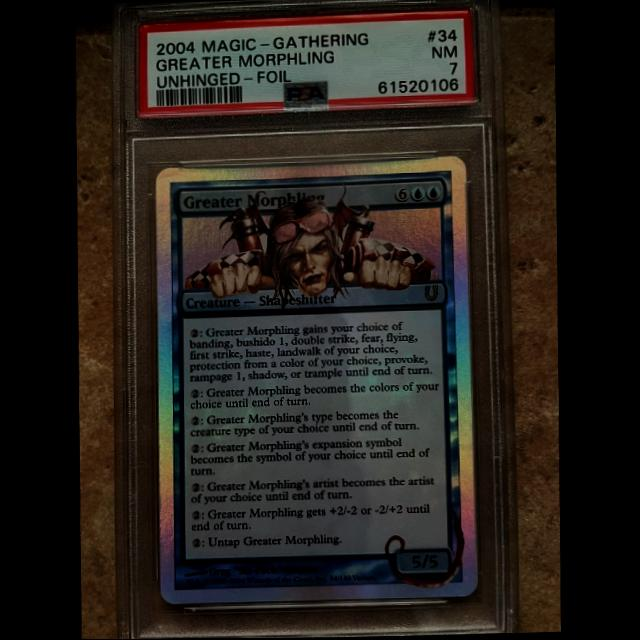card: (156, 156, 480, 605)
psa_label: (111, 0, 521, 639), (137, 9, 475, 117)
